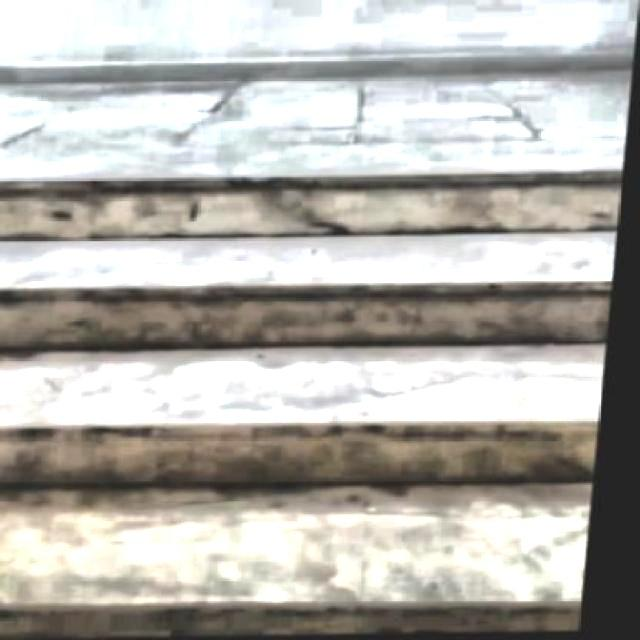stair: (0, 162, 626, 638)
